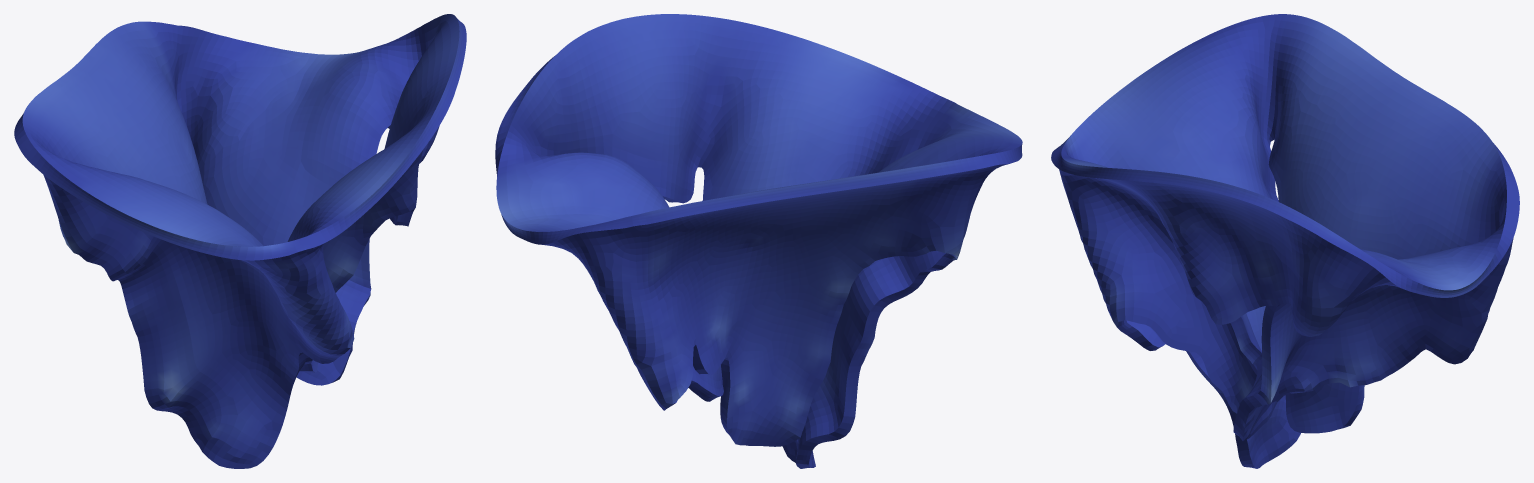
3 renders of one model, left to right at view 1: azimuth 30°, elevation 25°; view 2: azimuth 150°, elevation 25°; view 3: azimuth 270°, elevation 25°, orthographic. The views are drawn at different scales.
Visible parts, largest first — view 1: OCS14_maxS_19; view 2: OCS14_maxS_19; view 3: OCS14_maxS_19.
Boxes of the visible parts, bbox=[...] form: OCS14_maxS_19: bbox=[14, 14, 466, 468]; OCS14_maxS_19: bbox=[495, 14, 1022, 468]; OCS14_maxS_19: bbox=[1051, 14, 1519, 468].
Size of the model in its own units: 1.44 by 1.17 by 1.32.
